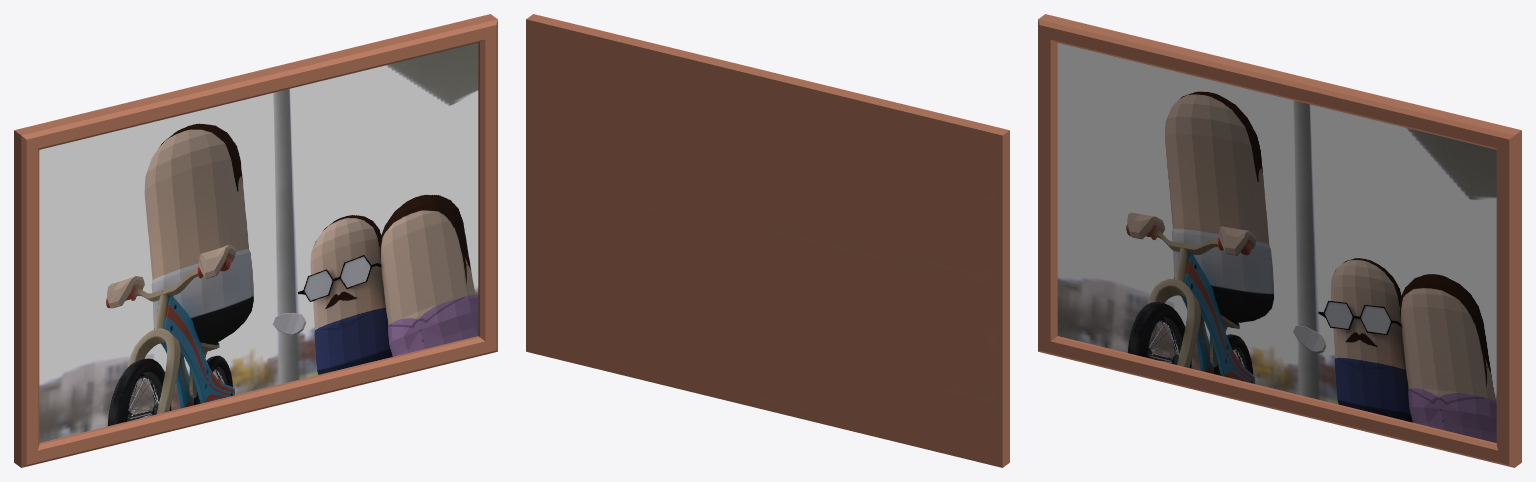
Rendered from Item_A.fbx.
3 renders of one model, left to right at view 1: azimuth 30°, elevation 25°; view 2: azimuth 150°, elevation 25°; view 3: azimuth 330°, elevation 25°, orthographic.
Parts seen in each view (by area): view 1: Cube; view 2: Cube; view 3: Cube.
Boxes of the visible parts, x1,y1,x2,y2 form: Cube: (14,14,497,467); Cube: (526,14,1009,467); Cube: (1038,14,1521,467).
Bounding box in the file's own units: 300 × 200 × 10.
1 material, 1 textured.
